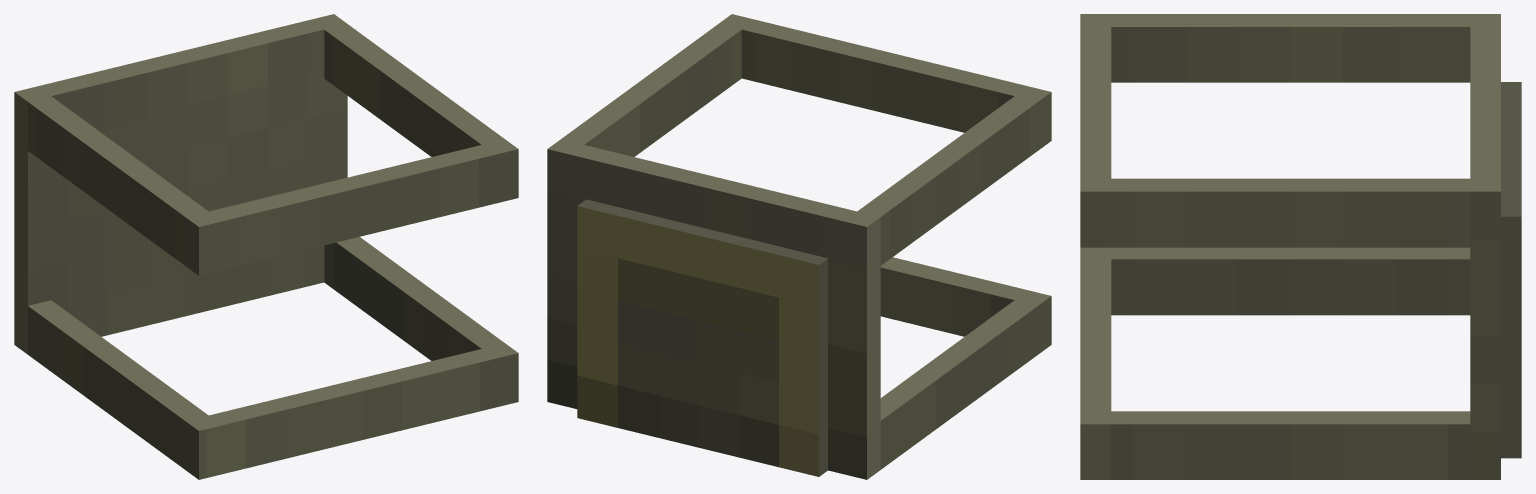
The model's file is defender_p_l.obj.
3 views of the same model, side by side, from view 1: azimuth 30°, elevation 25°; view 2: azimuth 150°, elevation 25°; view 3: azimuth 270°, elevation 25° (orthographic). The views are drawn at different scales.
Parts seen in each view (by area): view 1: cube; view 2: cube; view 3: cube.
Boxes of the visible parts, x1=… form: cube: x1=14, y1=14, x2=518, y2=479; cube: x1=547, y1=14, x2=1051, y2=479; cube: x1=1080, y1=14, x2=1521, y2=479.
Size of the model in its own units: 0.2562 by 0.1937 by 0.2687.
